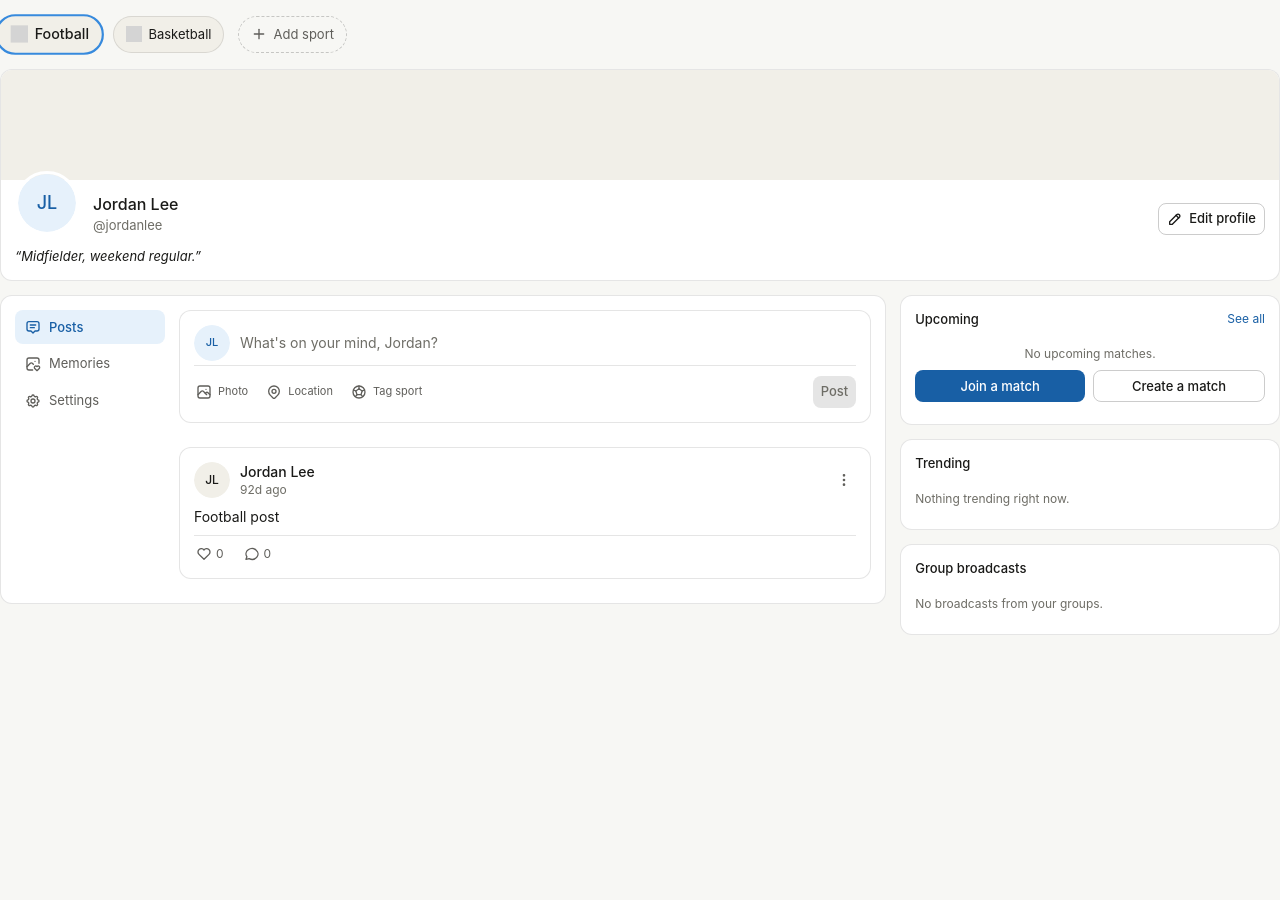
Test: ProfilePage › Settings unsaved-changes guard (PROFILE-10) › blocks switching away from Settings via ProfileTabs while dirty, and Discard proceeds
The width and height of the screenshot is (1280, 900).
Expected: the text "Football post" is shown, [194,508,279,524]
Click the tab "Settings": (90, 401) [15,383,165,418]
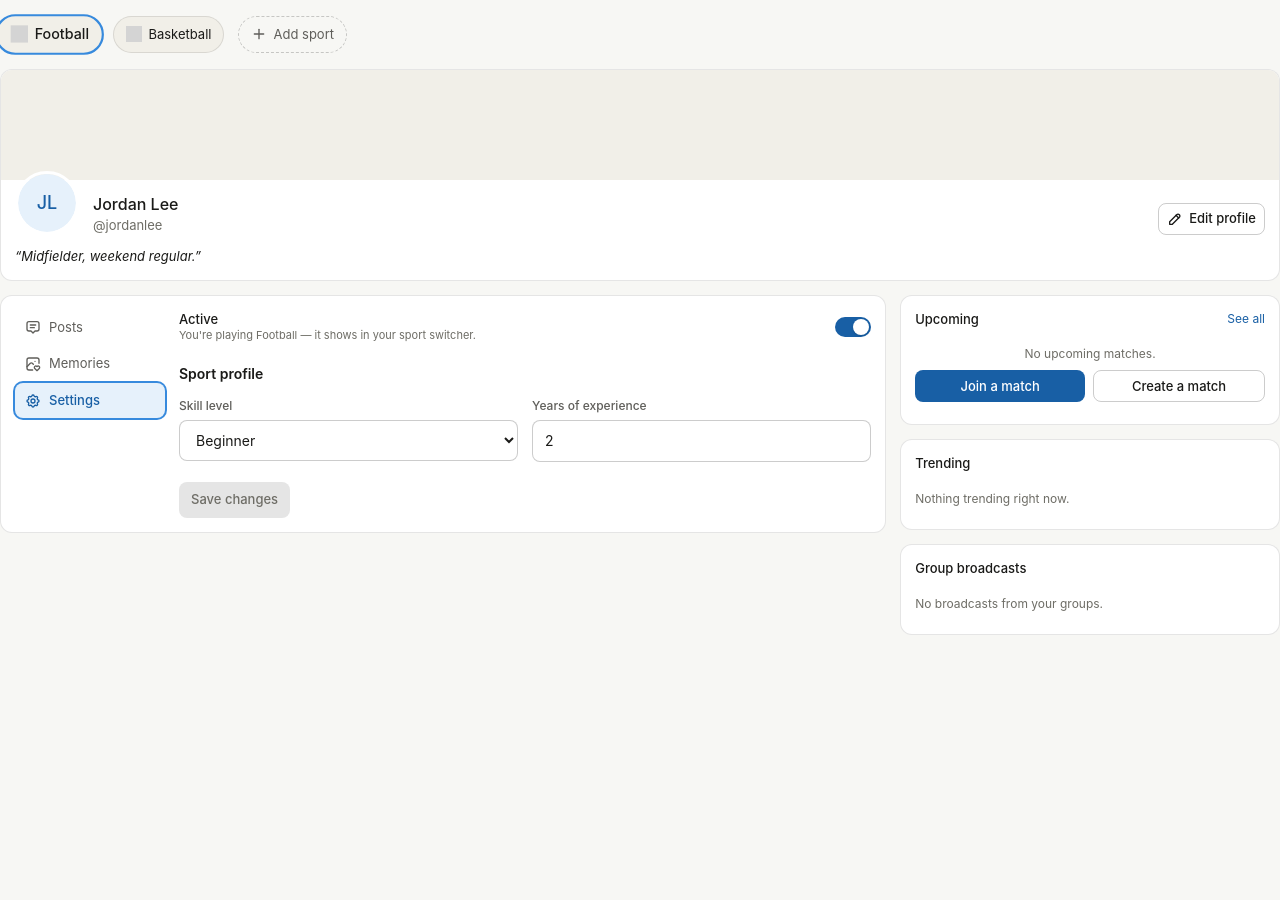
Now the dropdown labelled "Skill level" shows "Beginner", box [179,420,518,461]
In the number field labelled "Years of experience": (702, 441) [532,420,871,462], type "5"
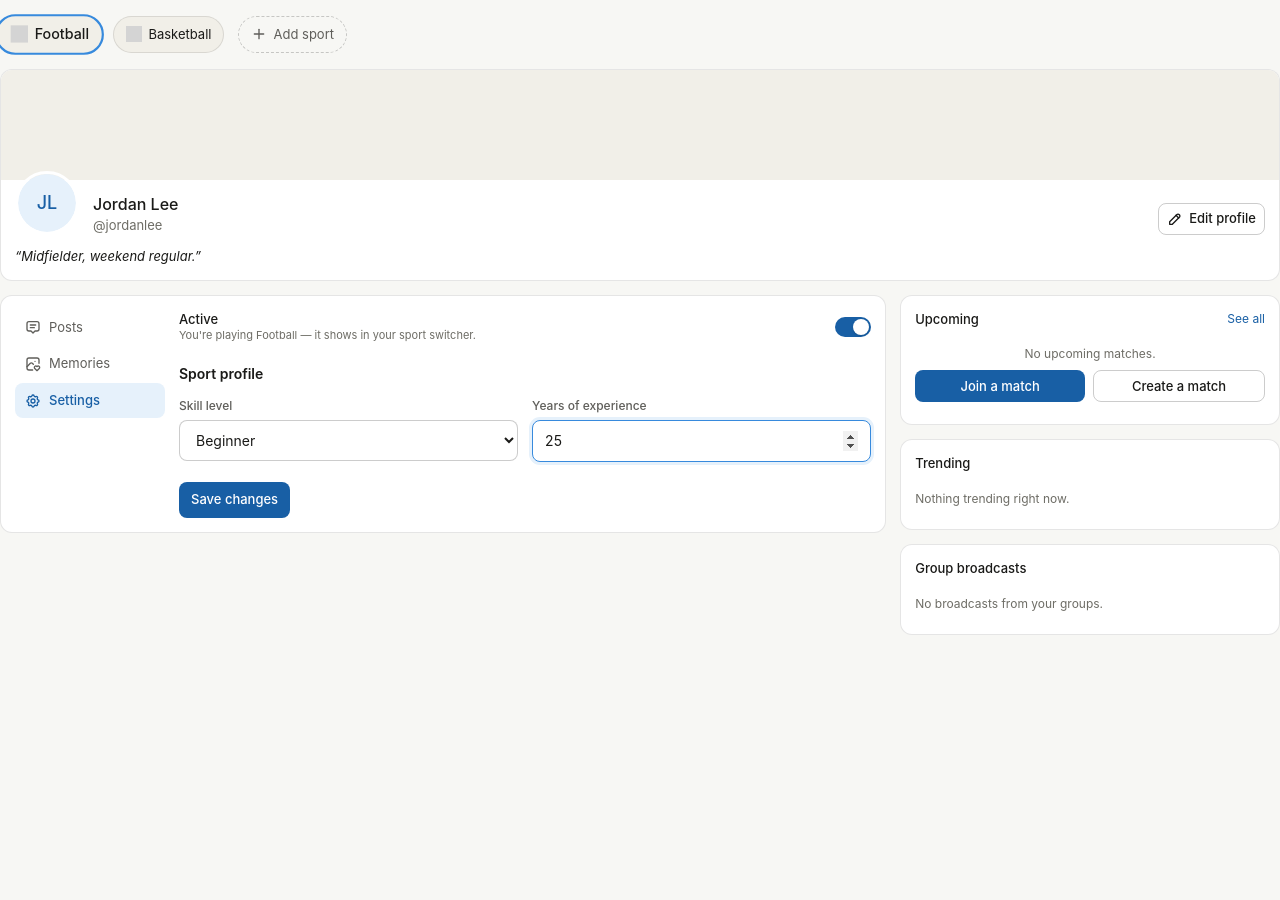
Click the tab "Posts": (90, 327) [15,310,165,344]
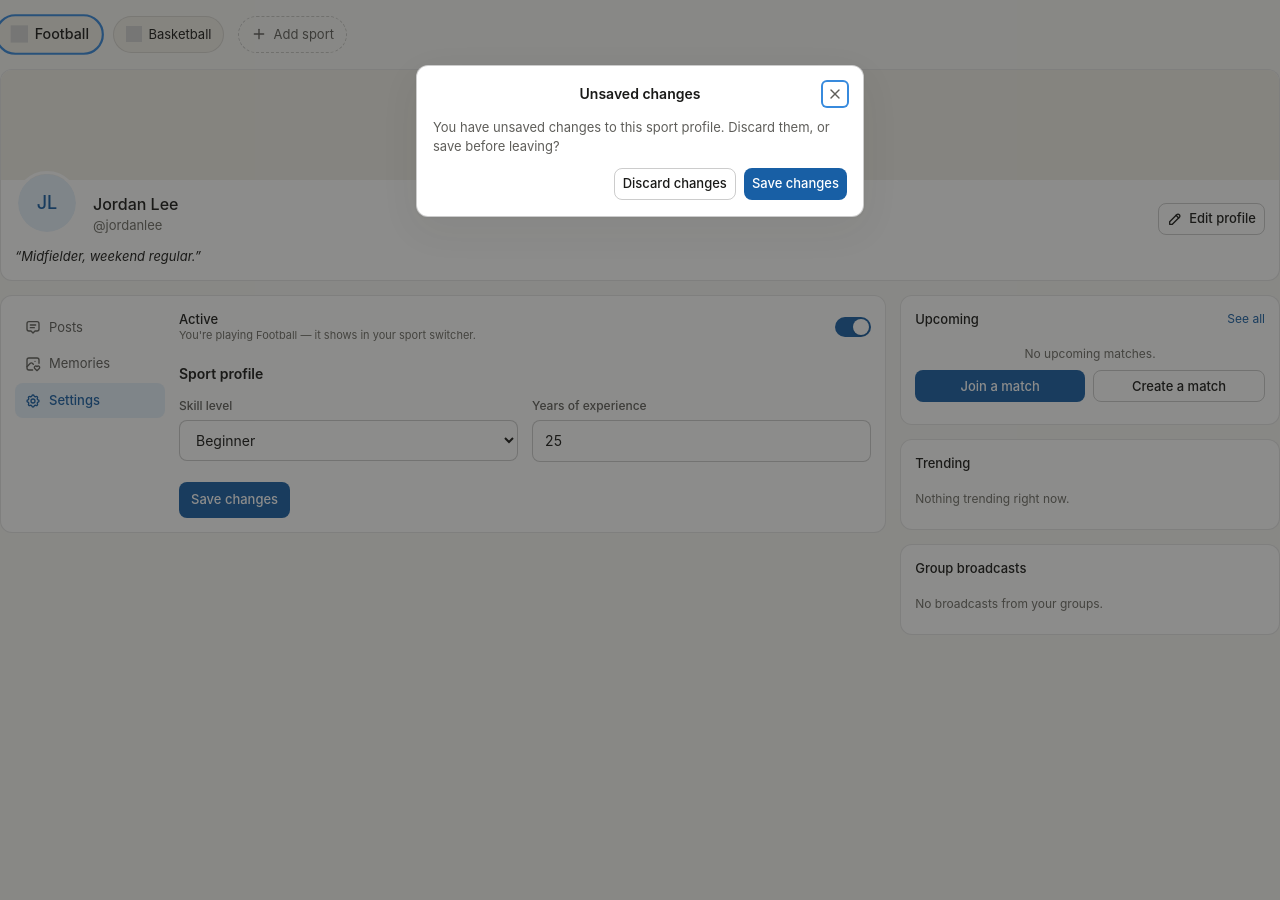
Now the number field labelled "Years of experience" holds "25", box [532,420,871,462]
Now the text "unsaved changes to this sport profile" is shown, box [433,119,830,154]
Click the button "Discard changes": (675, 184) [614,168,736,200]
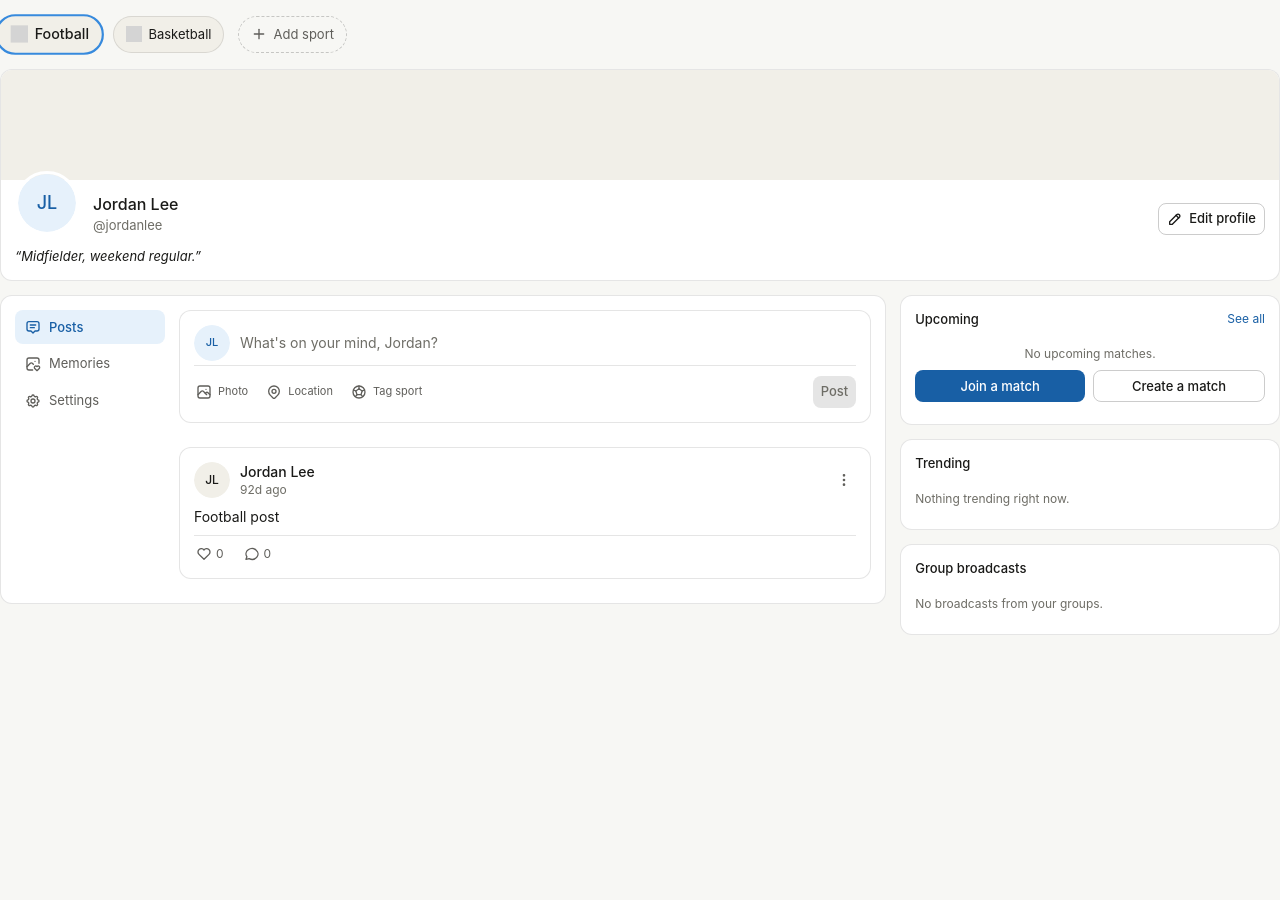
Now the text "Football post" is shown, box [194,508,279,524]
Now the heading "Unsaved changes" is gone
